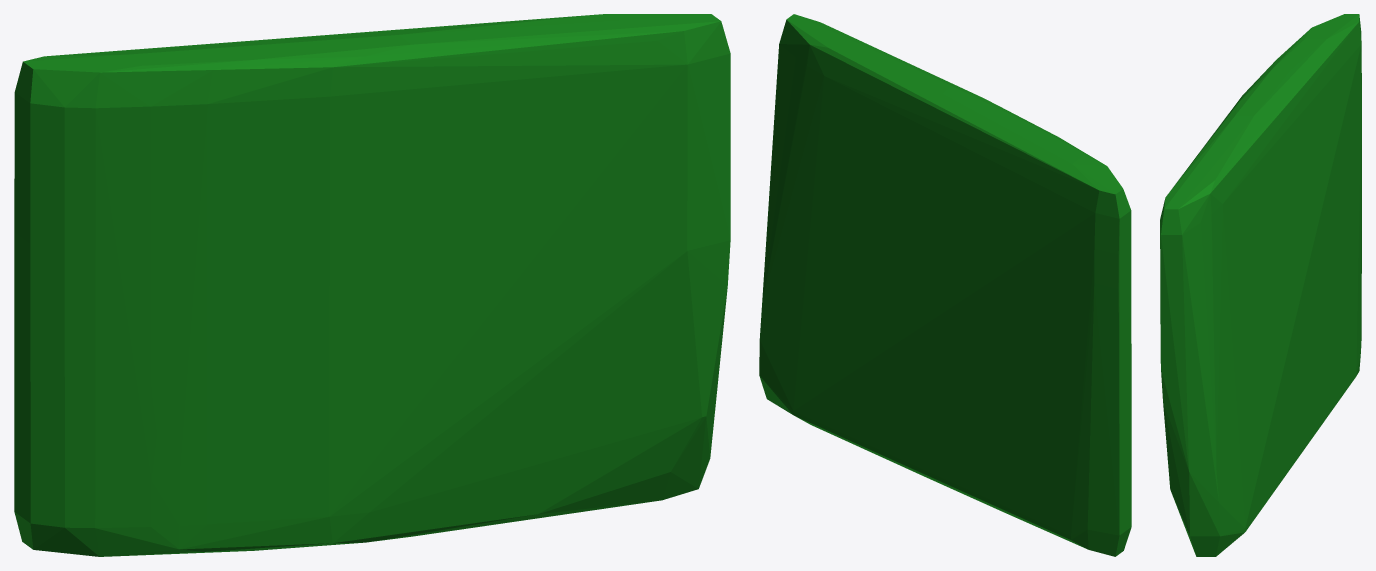
File: left-hip-yaw-0_part_8.obj
3 views of the same model, side by side, from view 1: azimuth 30°, elevation 25°; view 2: azimuth 150°, elevation 25°; view 3: azimuth 270°, elevation 25° (orthographic). The views are drawn at different scales.
Size of the model in its own units: 0.0259 by 0.0214 by 0.0108.
